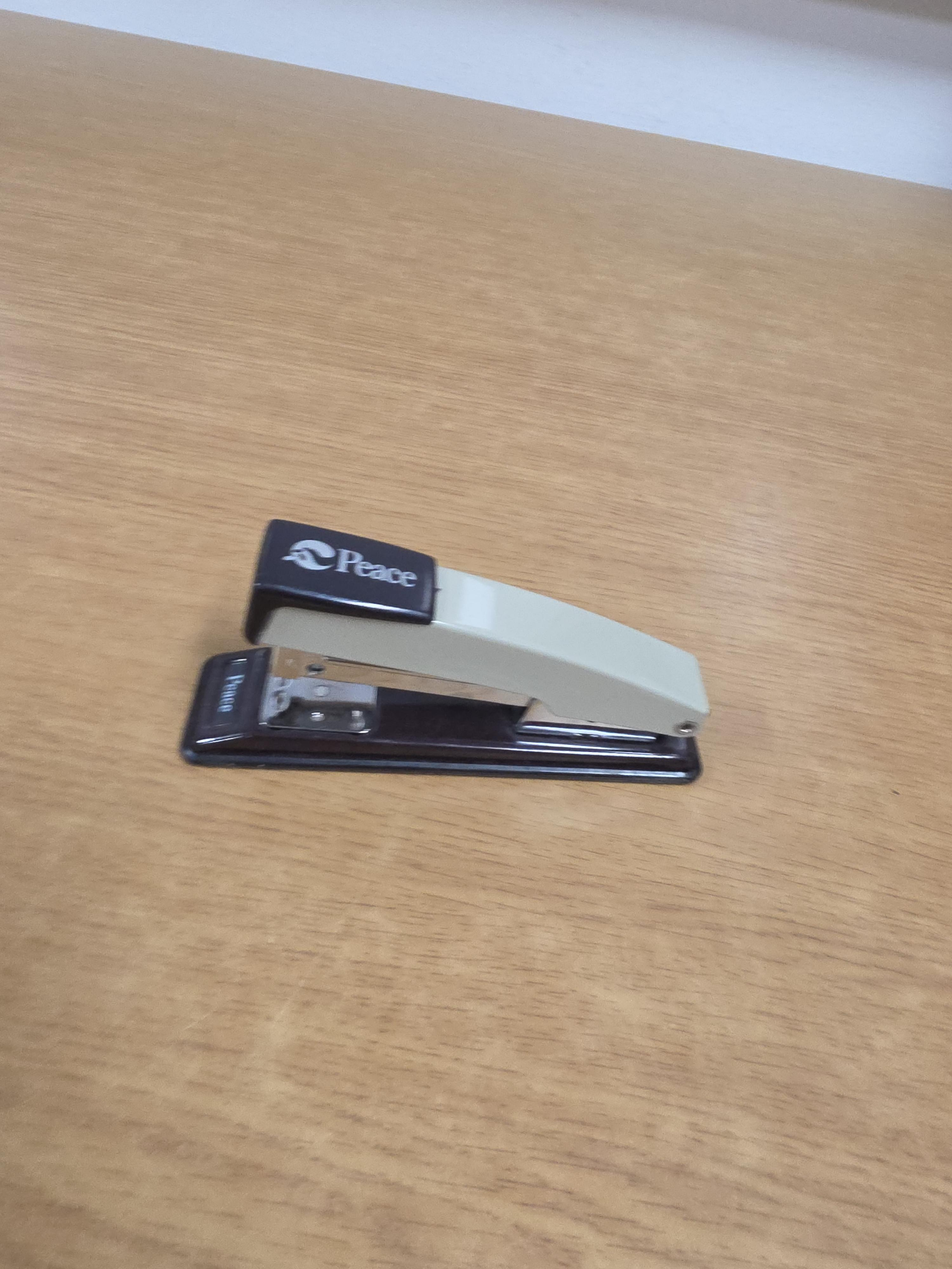stapler: (178, 518, 710, 784)
